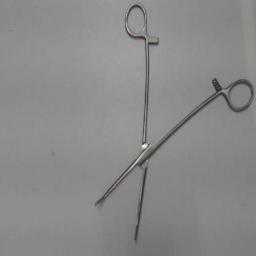Lahey Forceps: (91, 0, 255, 244)
